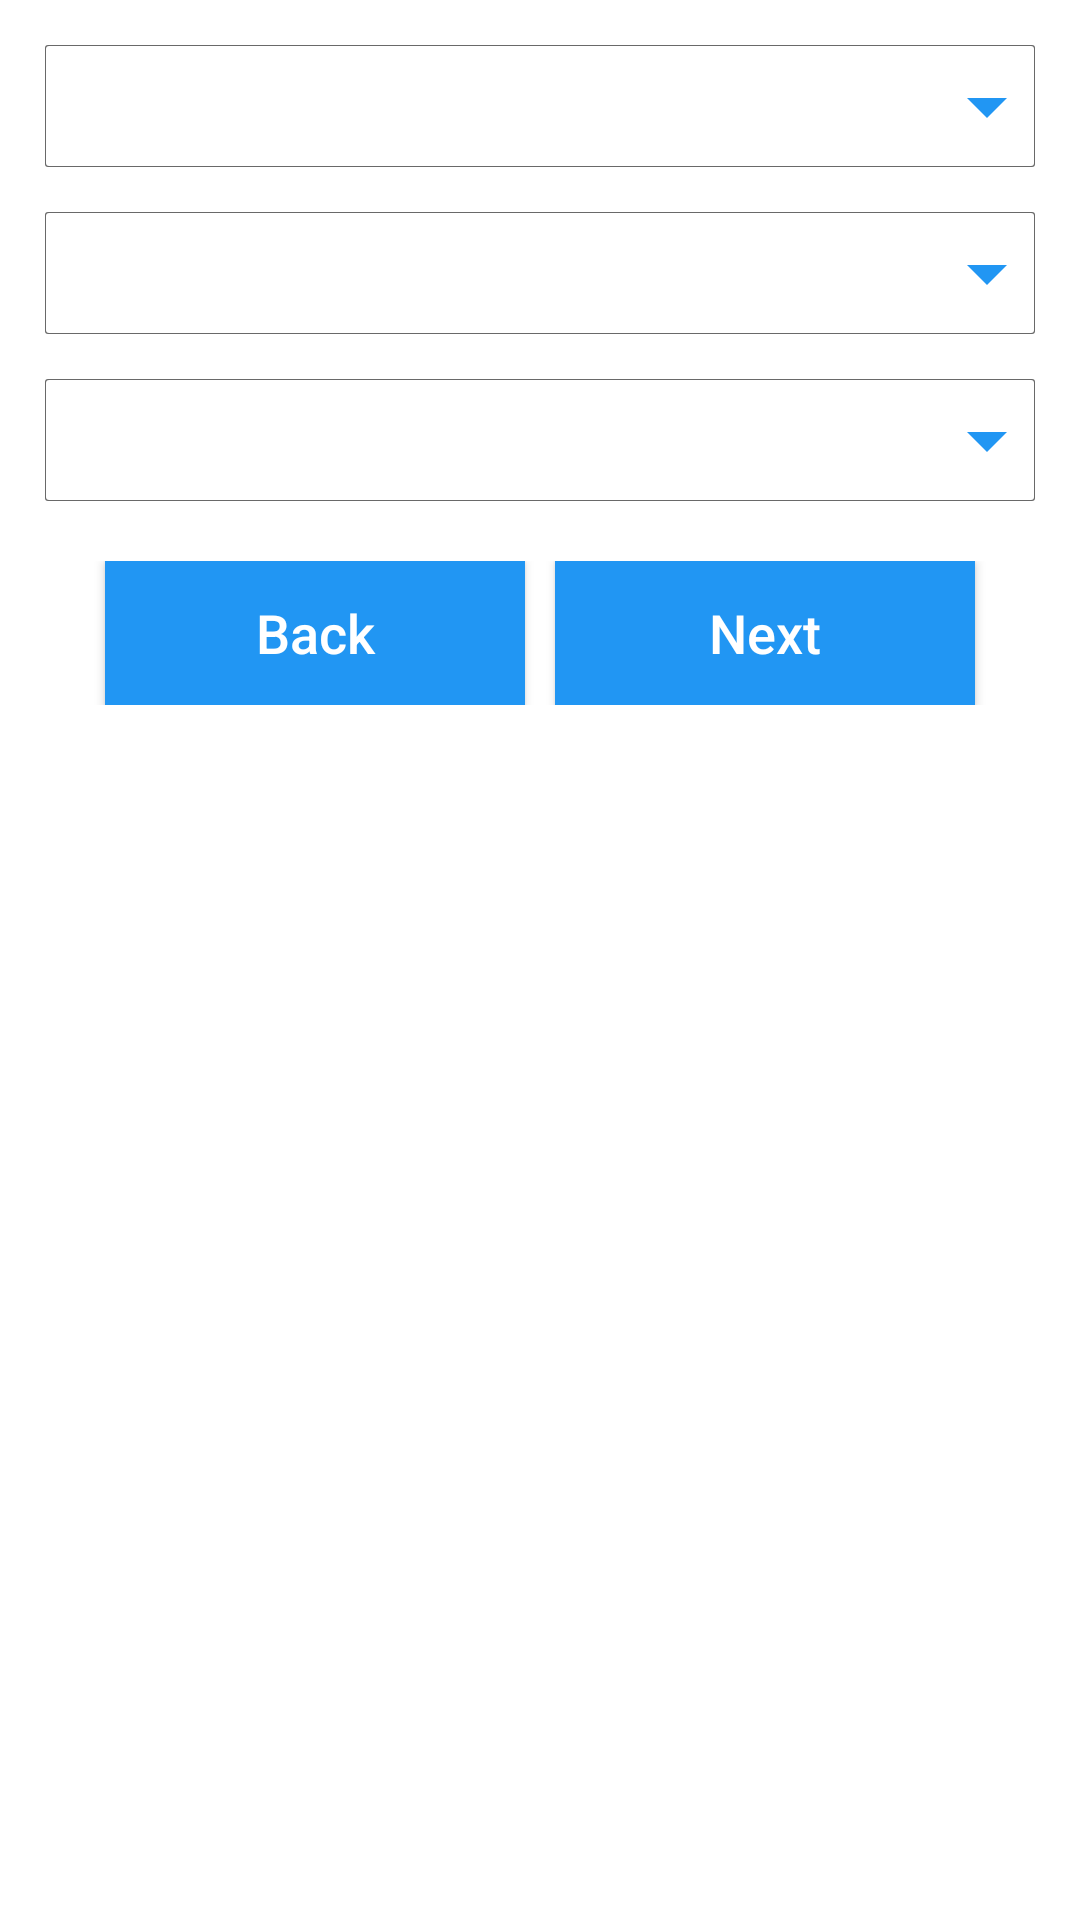

Icons on this 1080px x 1920px Android screen, each with the point to tap as point (x, y):
arrow drop down: point (987, 108), point (987, 275), point (987, 442)
